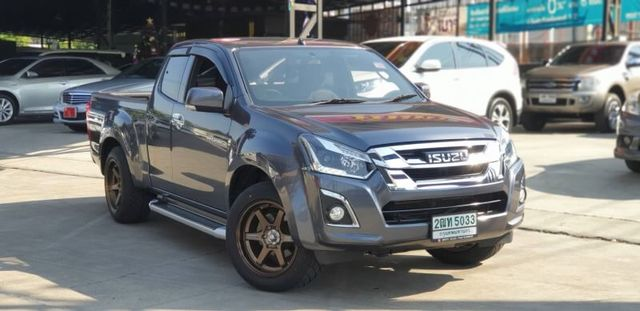pickup: (86, 33, 528, 293)
